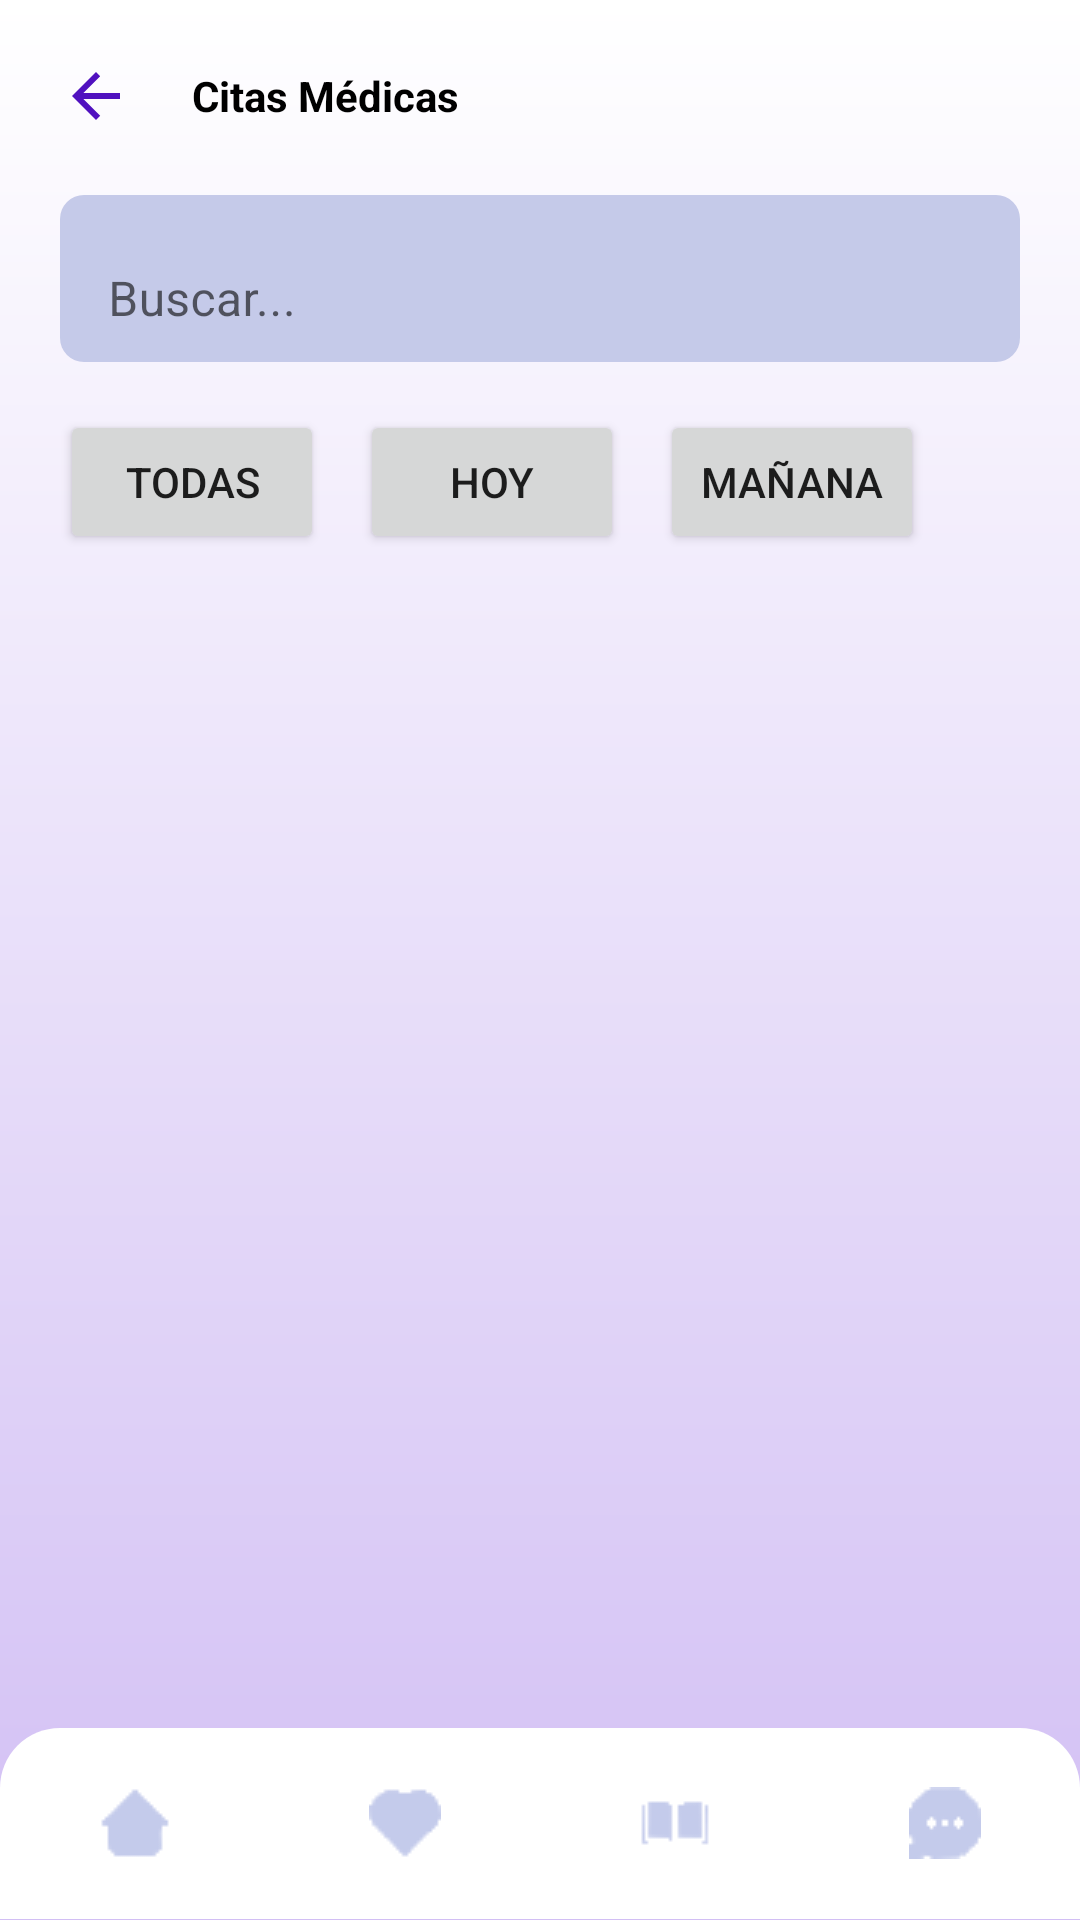

Named icons in this screenshot (1080 × 1920) and their bounding boxes, (x1, y1, x2, y2):
book: (642, 1802, 708, 1844)
home: (102, 1790, 168, 1856)
love: (369, 1790, 441, 1856)
messenger: (909, 1787, 981, 1859)
